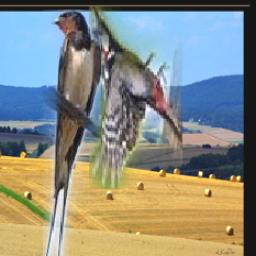Swallow: (44, 11, 102, 256)
Woodpecker: (90, 6, 183, 189)
